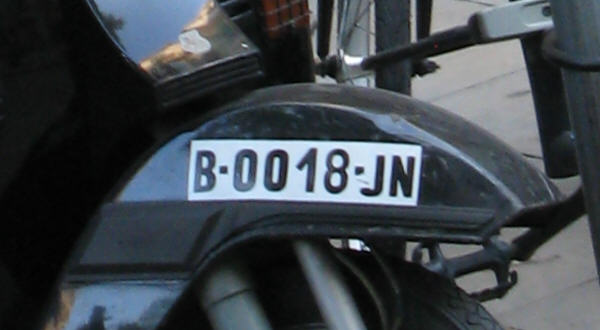license_plate: (186, 139, 423, 206)
